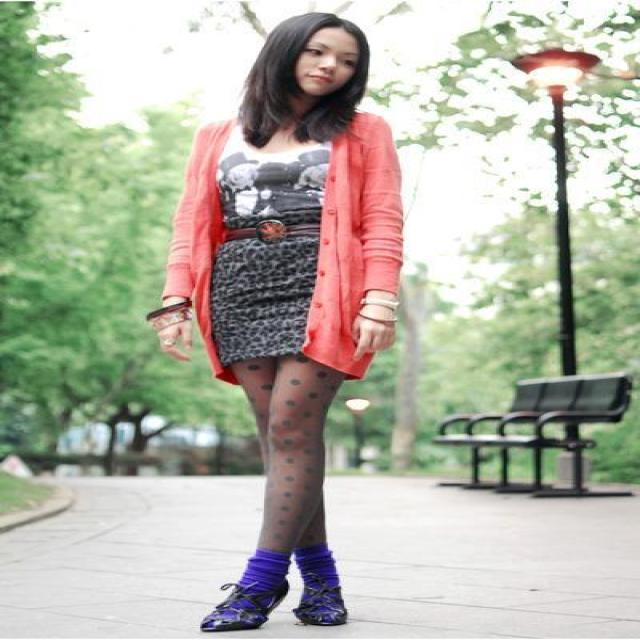dress: (210, 141, 331, 370)
jacket: (162, 112, 403, 370)
shoe: (211, 525, 352, 631)
